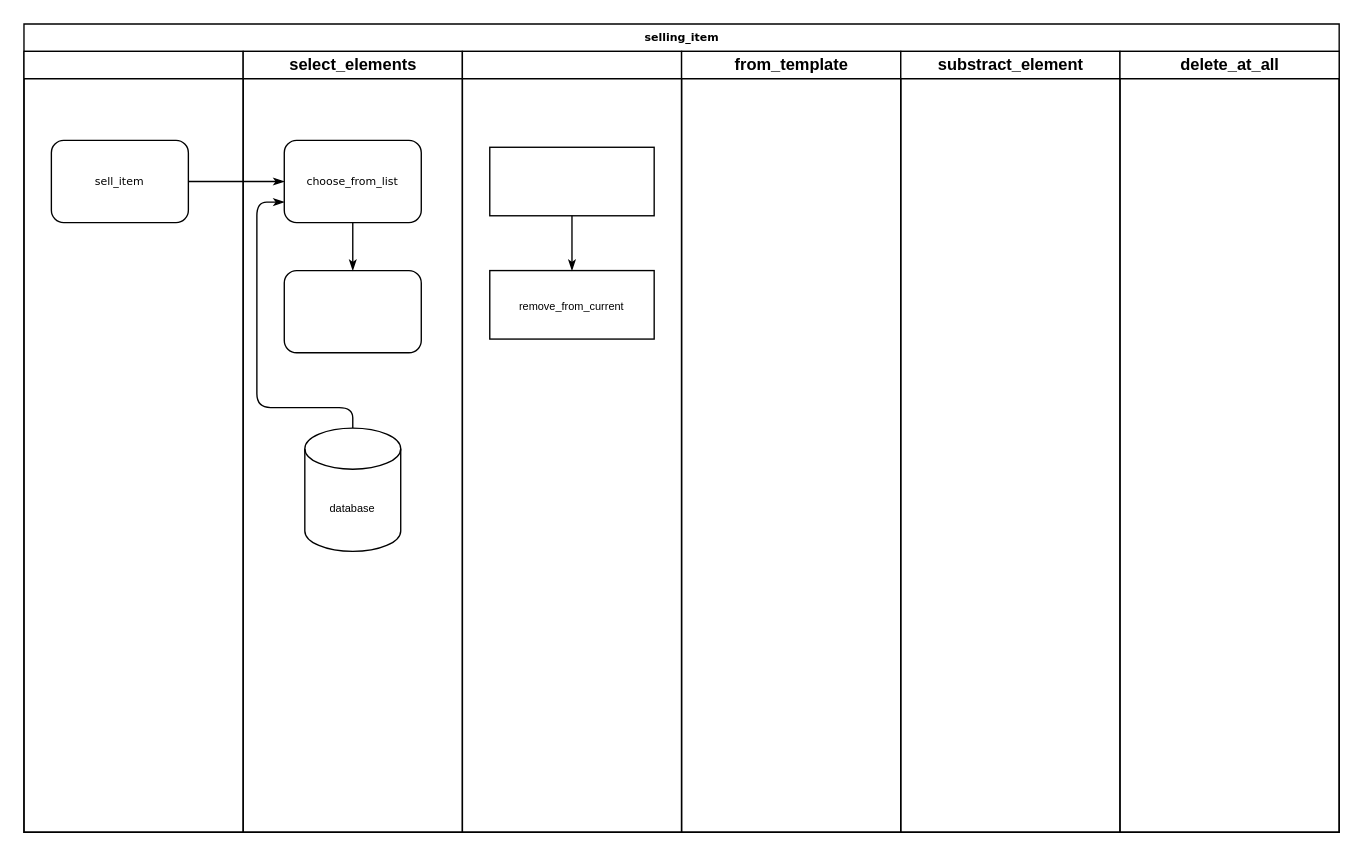
The diagram is 1363 pixels wide and 856 high, and some of its shapes have lost their labels. The box of each missing label's shape, as (x1, y1, x2, y2) in pixels:
backend_0: (461, 50, 682, 832)
choose_quantity: (283, 269, 421, 353)
main_page: (23, 50, 243, 832)
paste_to_unsettled: (488, 146, 654, 216)
